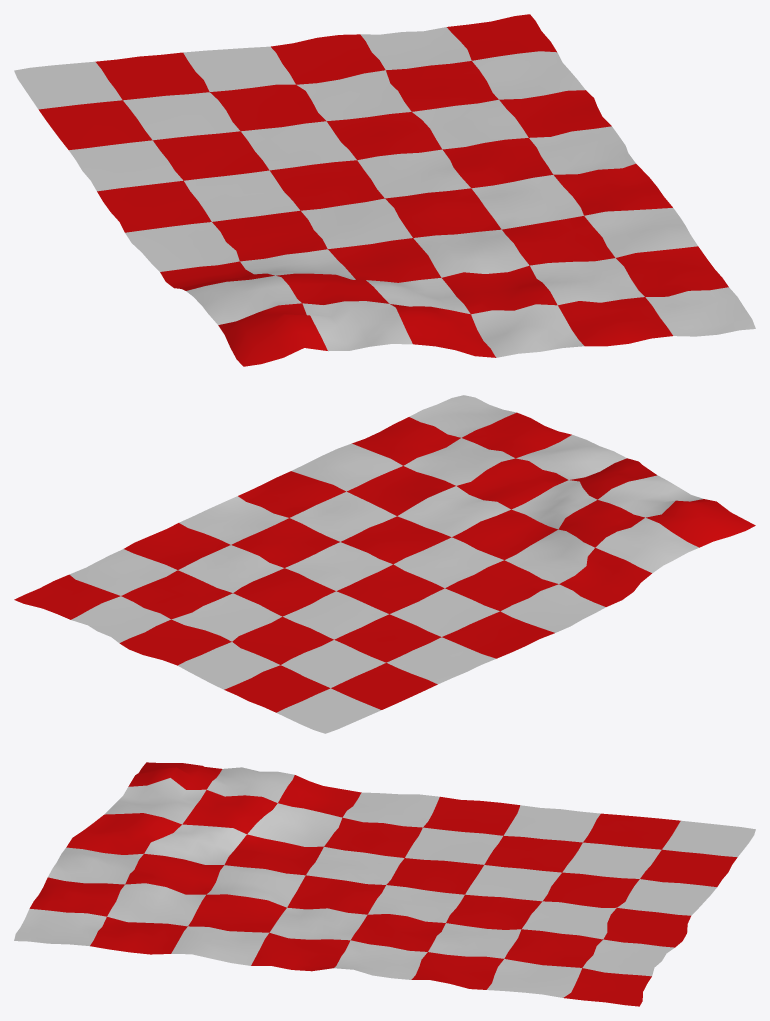
Rendered from Rug.fbx.
3 views of the same model, one above another, from view 1: azimuth 30°, elevation 25°; view 2: azimuth 150°, elevation 25°; view 3: azimuth 270°, elevation 25° (orthographic). The views are drawn at different scales.
Parts seen in each view (by area): view 1: Plane; view 2: Plane; view 3: Plane.
Boxes of the visible parts, box(x1,y1,x2,y2) form: Plane: box(14, 14, 755, 366); Plane: box(14, 395, 755, 733); Plane: box(14, 762, 755, 1006).
Size of the model in its own units: 7.75 by 0.4663 by 10.35.
